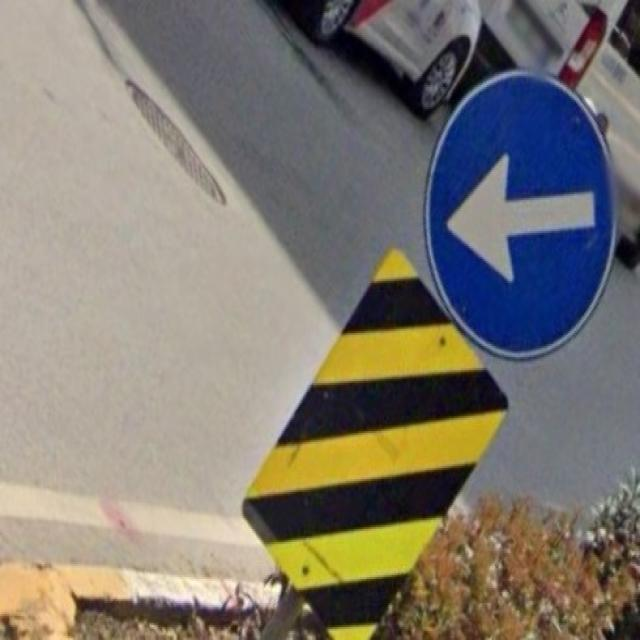Turn Left: (423, 71, 607, 354)
